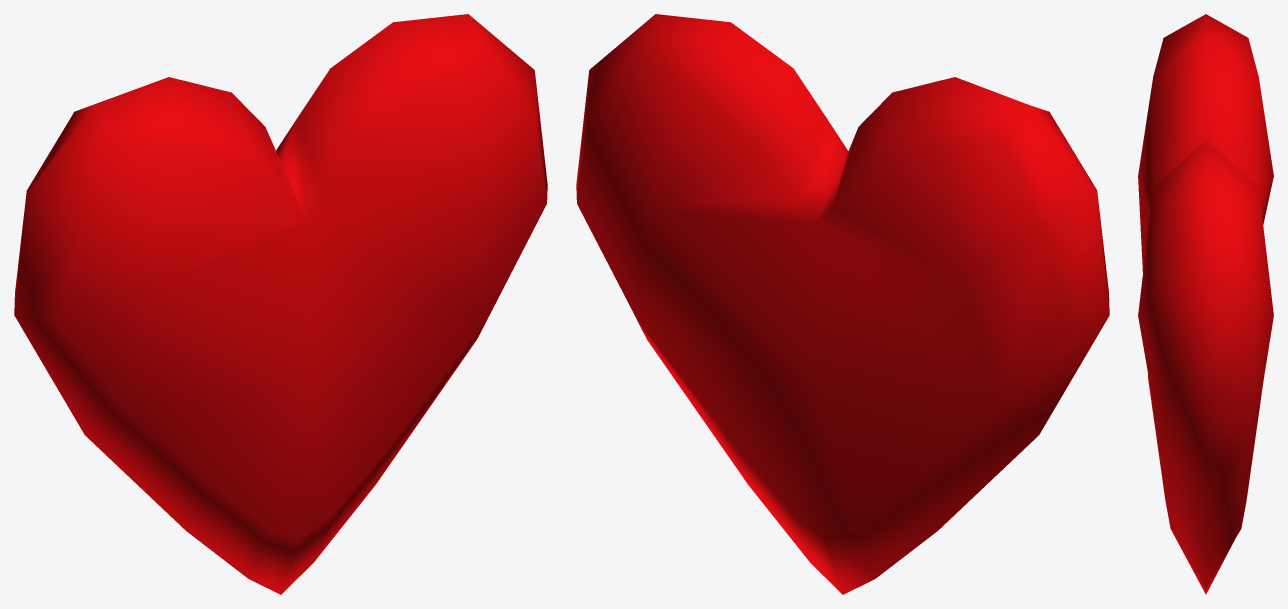
File: ShapeDrop_FinalAssets-ExtraLife-Final-Decimated.fbx
The picture shows the model from 3 angles, left to right: view 1: azimuth 30°, elevation 25°; view 2: azimuth 150°, elevation 25°; view 3: azimuth 270°, elevation 25°; orthographic projection. The views are drawn at different scales.
Parts seen in each view (by area): view 1: ExtraLifePowerUp-SubDiv1-NoNgon; view 2: ExtraLifePowerUp-SubDiv1-NoNgon; view 3: ExtraLifePowerUp-SubDiv1-NoNgon.
Part boxes in pixels (x1,y1,x2,y2): ExtraLifePowerUp-SubDiv1-NoNgon: (14, 14, 547, 594); ExtraLifePowerUp-SubDiv1-NoNgon: (576, 14, 1109, 594); ExtraLifePowerUp-SubDiv1-NoNgon: (1138, 14, 1273, 594).
Bounding box in the file's own units: 100 × 98.17 × 23.91.
